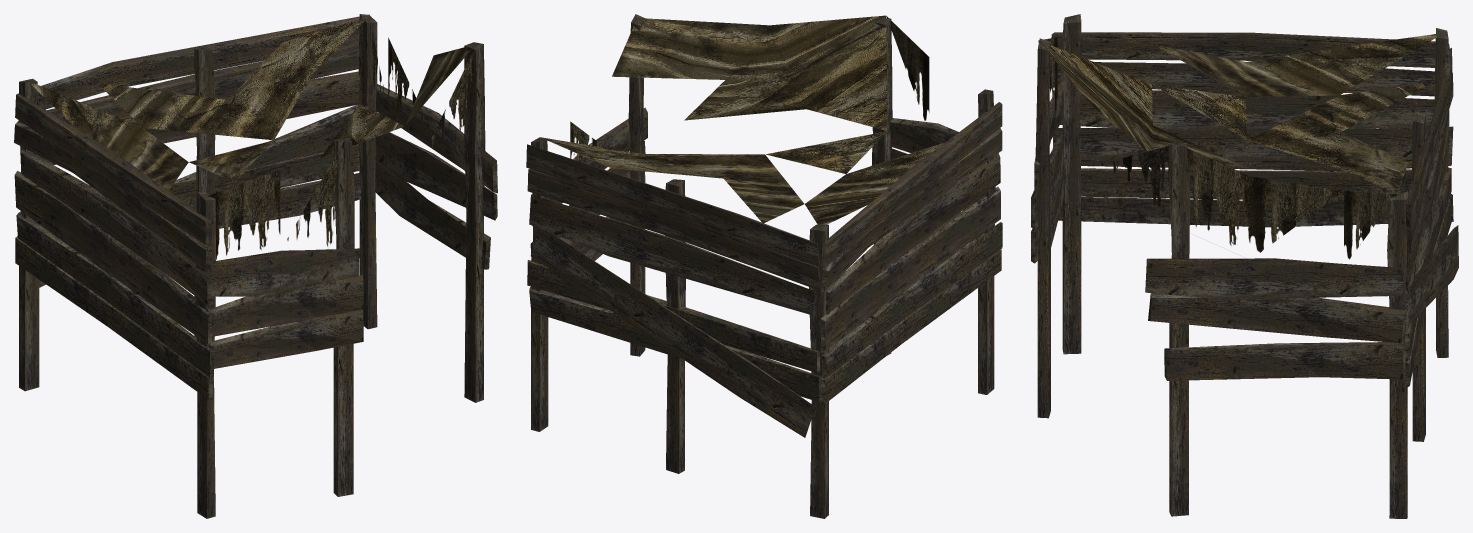
File: schronienie.glb
3 renders of one model, left to right at view 1: azimuth 30°, elevation 25°; view 2: azimuth 150°, elevation 25°; view 3: azimuth 270°, elevation 25°, orthographic. The views are drawn at different scales.
Parts seen in each view (by area): view 1: zengin; view 2: zengin; view 3: zengin.
Boxes of the visible parts, x1,y1,x2,y2 form: zengin: (14, 14, 497, 518); zengin: (526, 14, 1002, 518); zengin: (1031, 14, 1458, 518).
Size of the model in its own units: 4.64 by 4.6 by 4.74.
3 materials, 3 textured.
